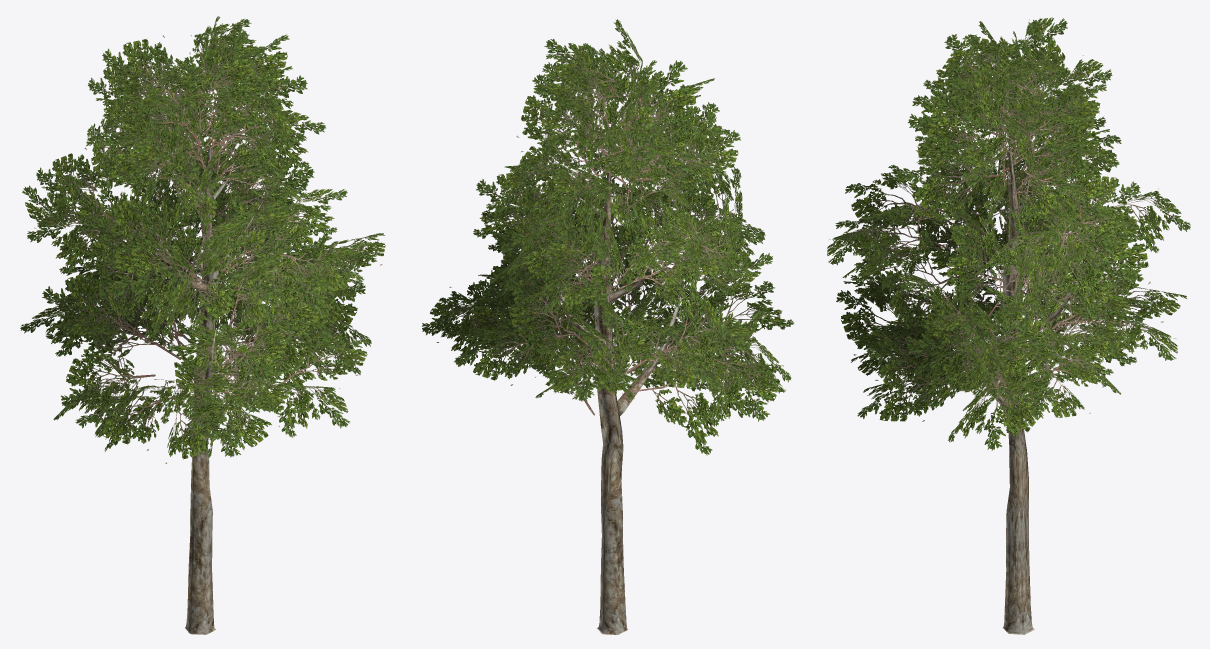
The model's file is arbol_ligero_2.obj.
The picture shows the model from 3 angles, left to right: view 1: azimuth 30°, elevation 25°; view 2: azimuth 150°, elevation 25°; view 3: azimuth 270°, elevation 25°; orthographic projection. The views are drawn at different scales.
Parts seen in each view (by area): view 1: arbol_ligero_2; view 2: arbol_ligero_2; view 3: arbol_ligero_2.
Boxes of the visible parts, x1,y1,x2,y2 form: arbol_ligero_2: [20, 16, 385, 634]; arbol_ligero_2: [422, 19, 793, 634]; arbol_ligero_2: [827, 17, 1190, 634].
Size of the model in its own units: 4.41 by 7.5 by 4.14.
